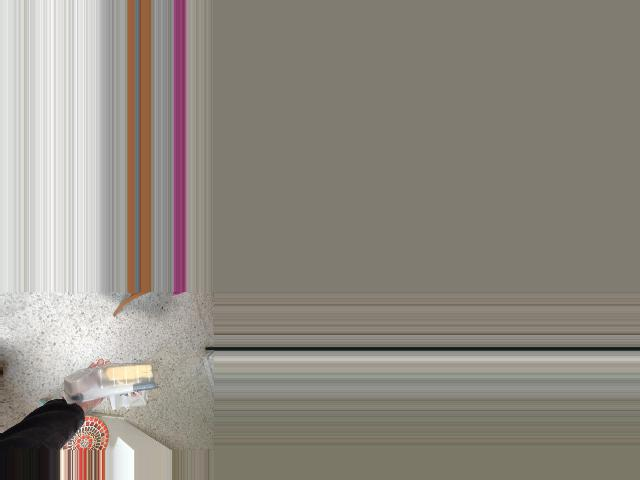cheese: (65, 361, 155, 403)
